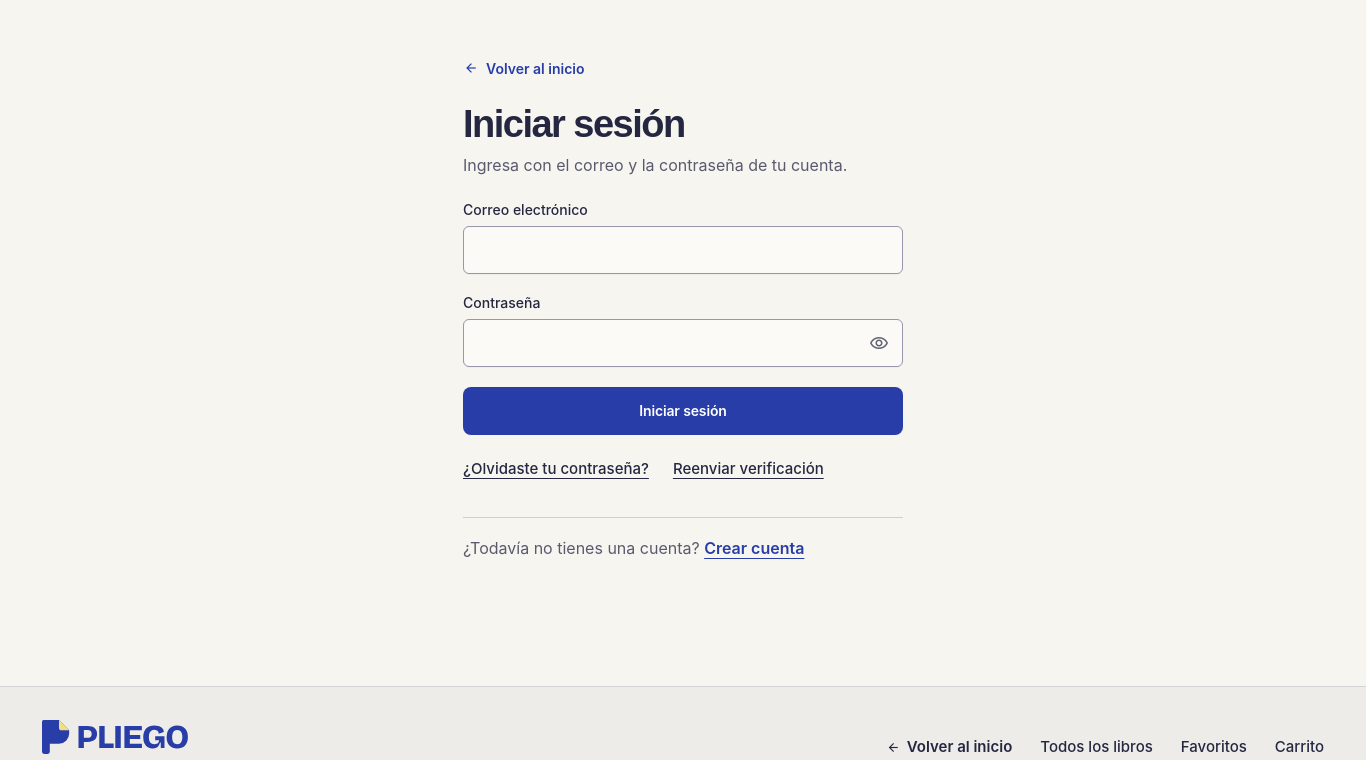
it: authentication forms › turns an unverified sign-in into direction, carrying the address to the resend page
The image size is (1366, 760).
Step 1. Type "ana@example.com" into the field labelled "Correo electrónico" → (683, 250), box [463,226,903,274]
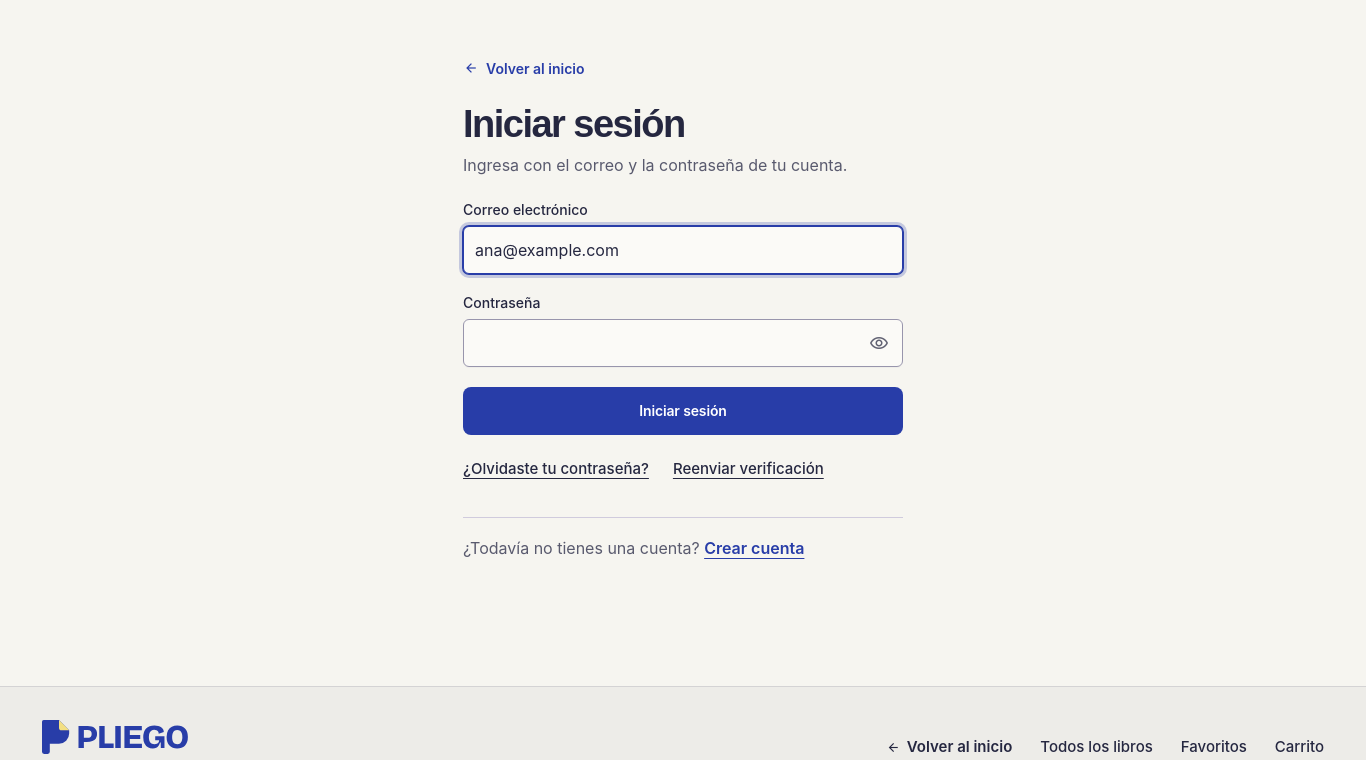
Step 2. Type "segura123" into the password field labelled "Contraseña" → (683, 343), box [463,319,903,367]
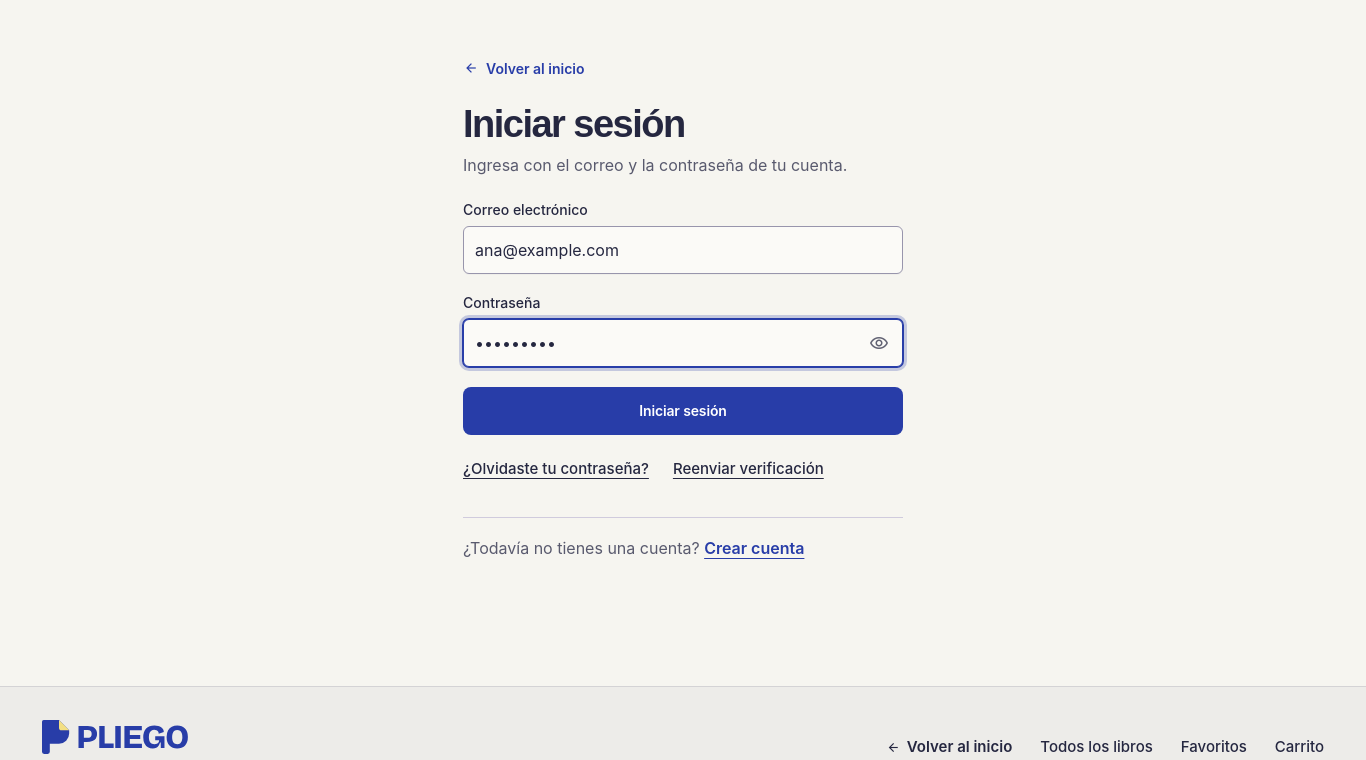
Step 3. Click the button "Iniciar sesión" → (683, 411), box [463,387,903,435]
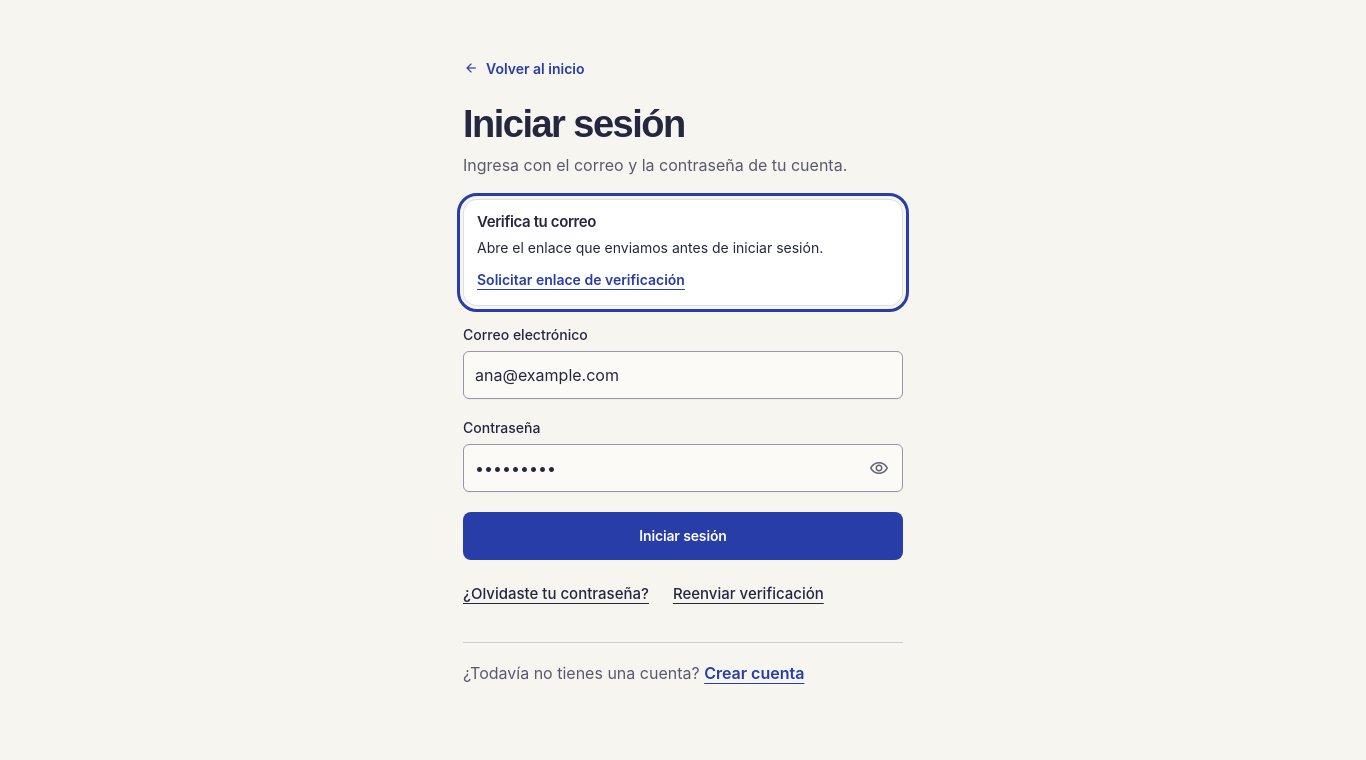
Expected: the message shows "Verifica tu correo", [477,212,596,231]
